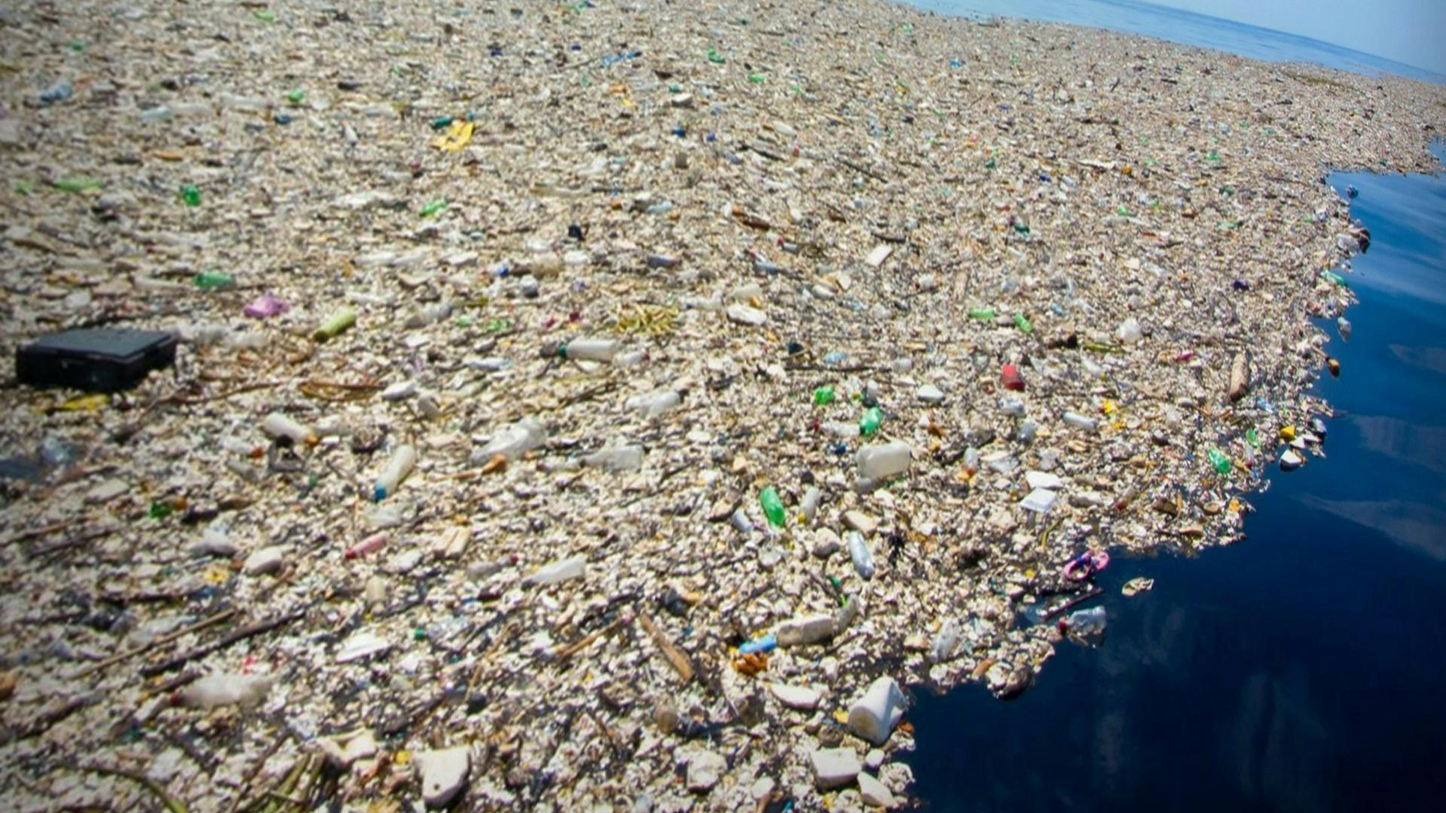Plastic Pollution: (296, 15, 1442, 678)
